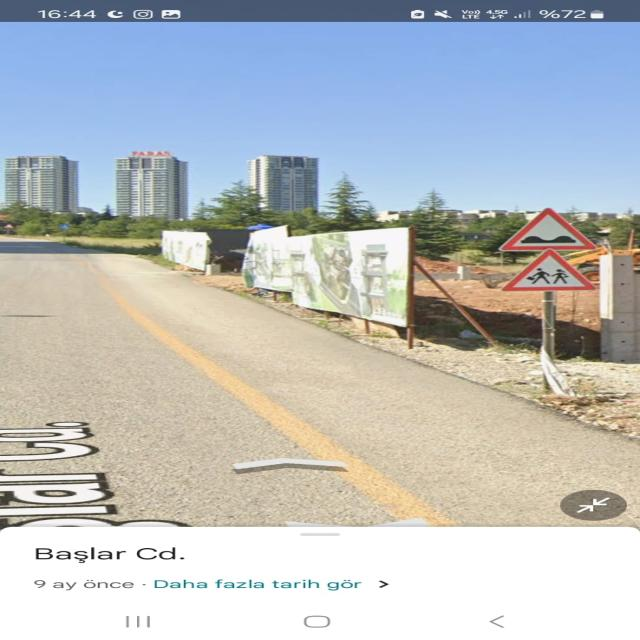okul_gecidi: (499, 247, 599, 292)
